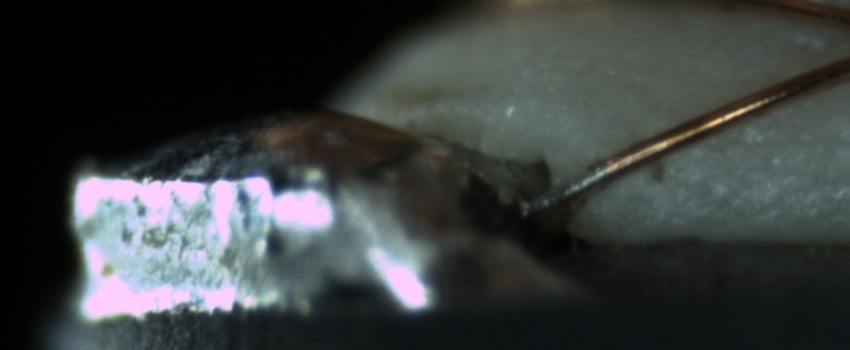DL: (696, 112, 849, 173)
TS: (514, 163, 609, 217)
